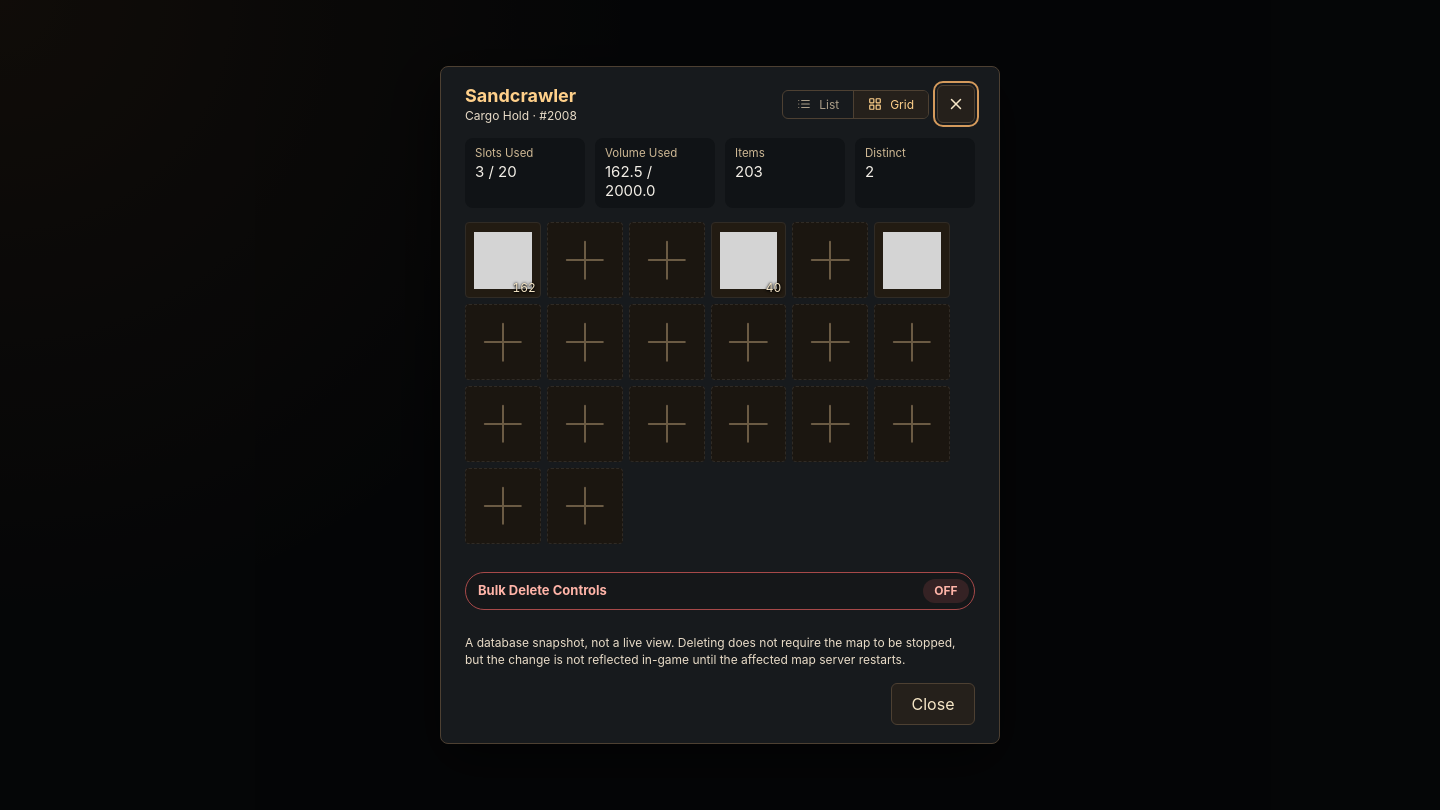
Test: VehicleStorageOverlay › shows every stack separately with its own slot number in list view
Expected: the text "Slots Used" is shown, [475,146,533,160]
Step 1. Click the button "List" → (818, 104), box [783,91,853,118]
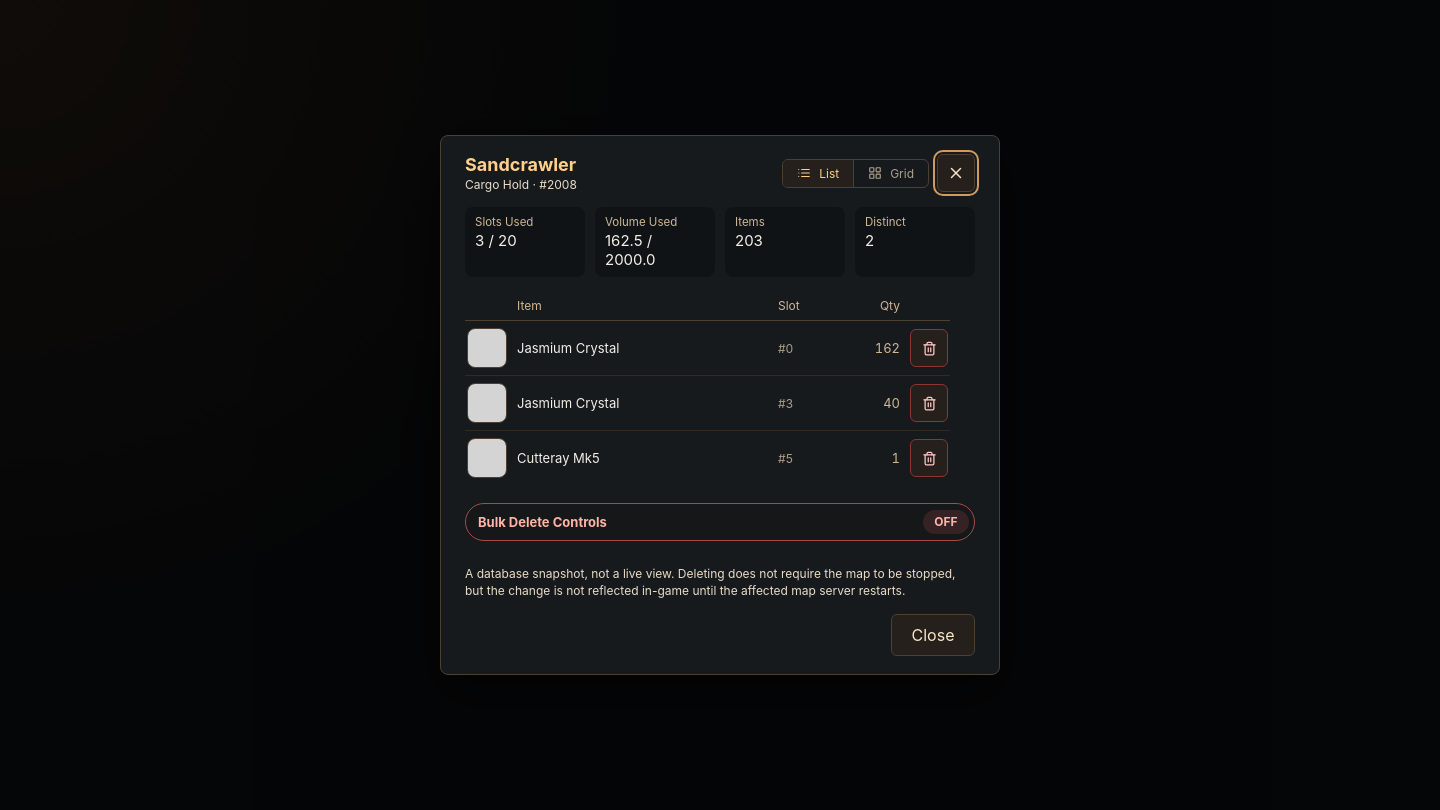
Result: the element with class "bases-inventory-contents-row" showing "Jasmium Crystal #0 162" is shown at [465,321,950,376]
Result: the element with class "bases-inventory-contents-row" shows "#0" at [778,341,793,356]
Result: the element with class "bases-inventory-contents-row" shows "#3" at [778,396,793,411]
